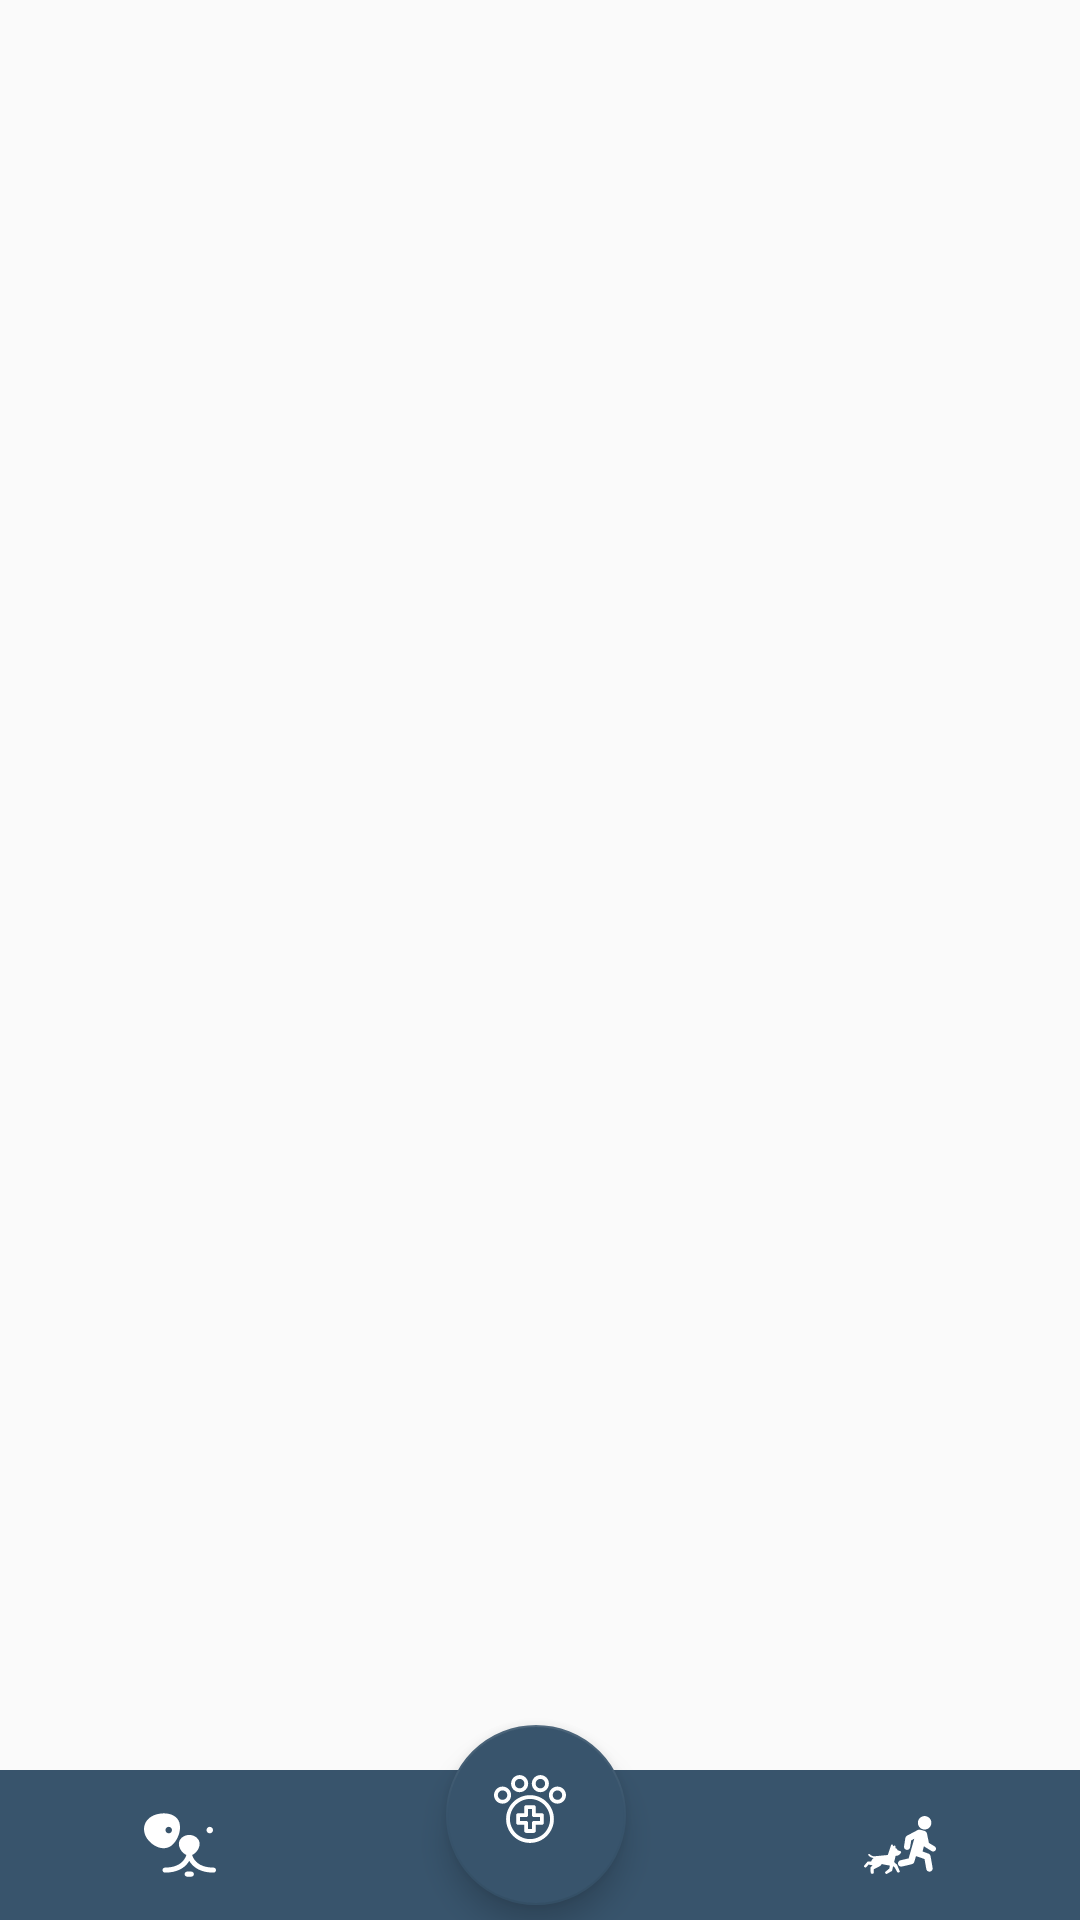

Icon click points for this 1080 × 1920 phone screenshot, format [x,y]:
pet face: [180,1845]
veterinary: [536,1815]
